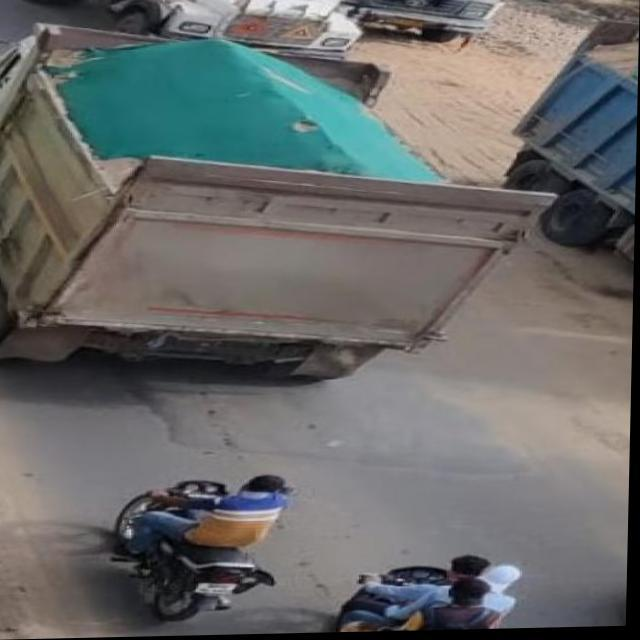covered: (0, 12, 468, 384)
uncovered: (528, 0, 640, 159)
